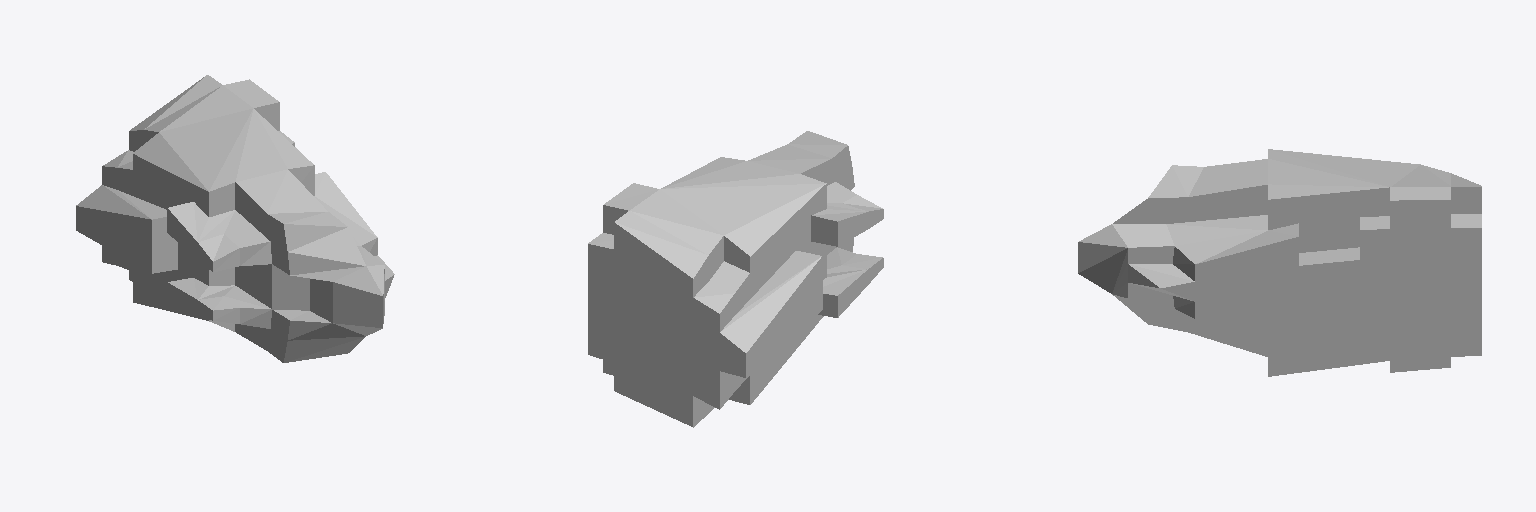
The model's file is HeavyTripleShootBot_LOD0-0.obj.
3 views of the same model, side by side, from view 1: azimuth 30°, elevation 25°; view 2: azimuth 150°, elevation 25°; view 3: azimuth 270°, elevation 25° (orthographic).
Visible parts, largest first — view 1: HeavyTripleShootBot_LOD0-0; view 2: HeavyTripleShootBot_LOD0-0; view 3: HeavyTripleShootBot_LOD0-0.
Boxes of the visible parts, x1,y1,x2,y2 form: HeavyTripleShootBot_LOD0-0: [76, 75, 394, 362]; HeavyTripleShootBot_LOD0-0: [588, 131, 883, 427]; HeavyTripleShootBot_LOD0-0: [1078, 149, 1481, 376].
Bounding box in the file's own units: 0.6 × 0.6884 × 1.32.